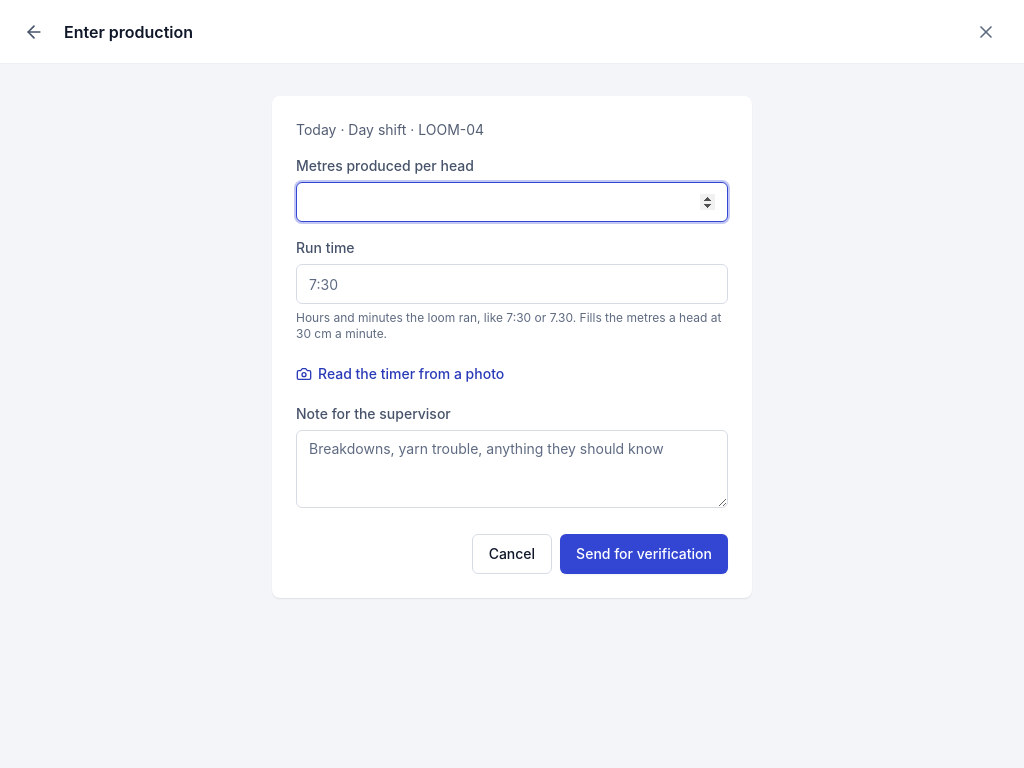
Test: entering production › asks for the metres before sending anything
Click the button "Send for verification": (644, 554) x1=560 y1=534 x2=728 y2=574
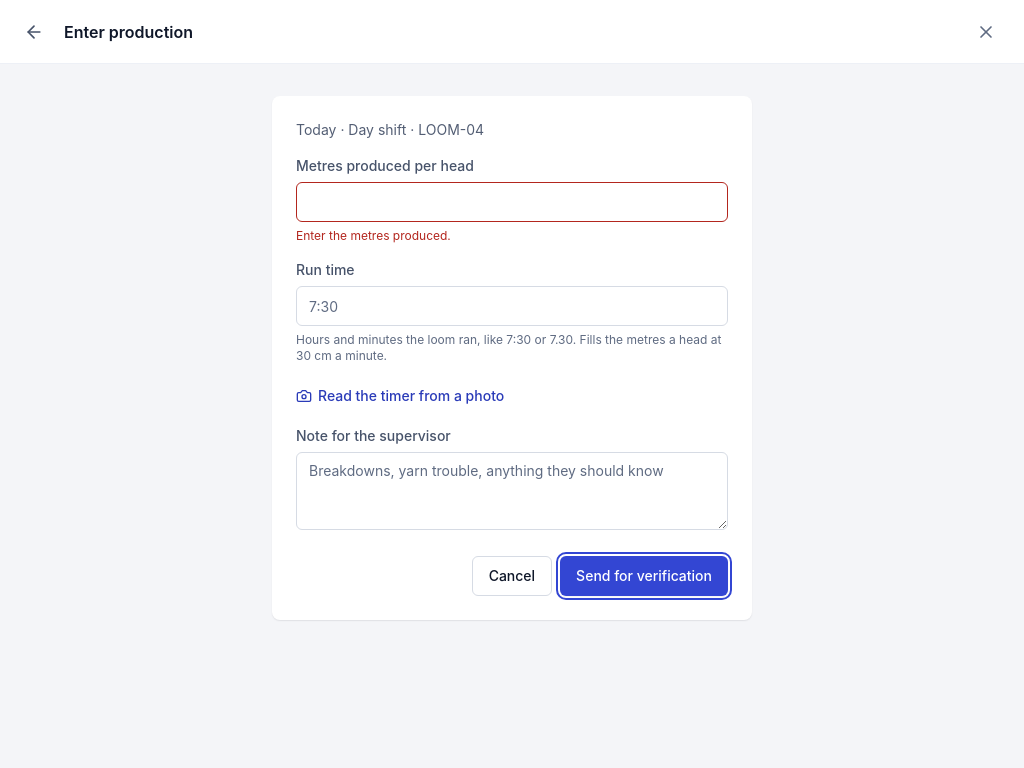
Expected: the text "Enter the metres produced." is shown, x1=296 y1=228 x2=451 y2=243
